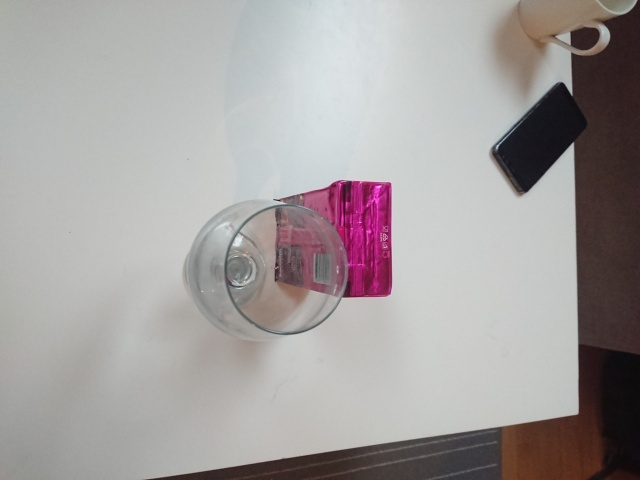Barcaffe Classic Original 225g: (272, 179, 395, 300)
